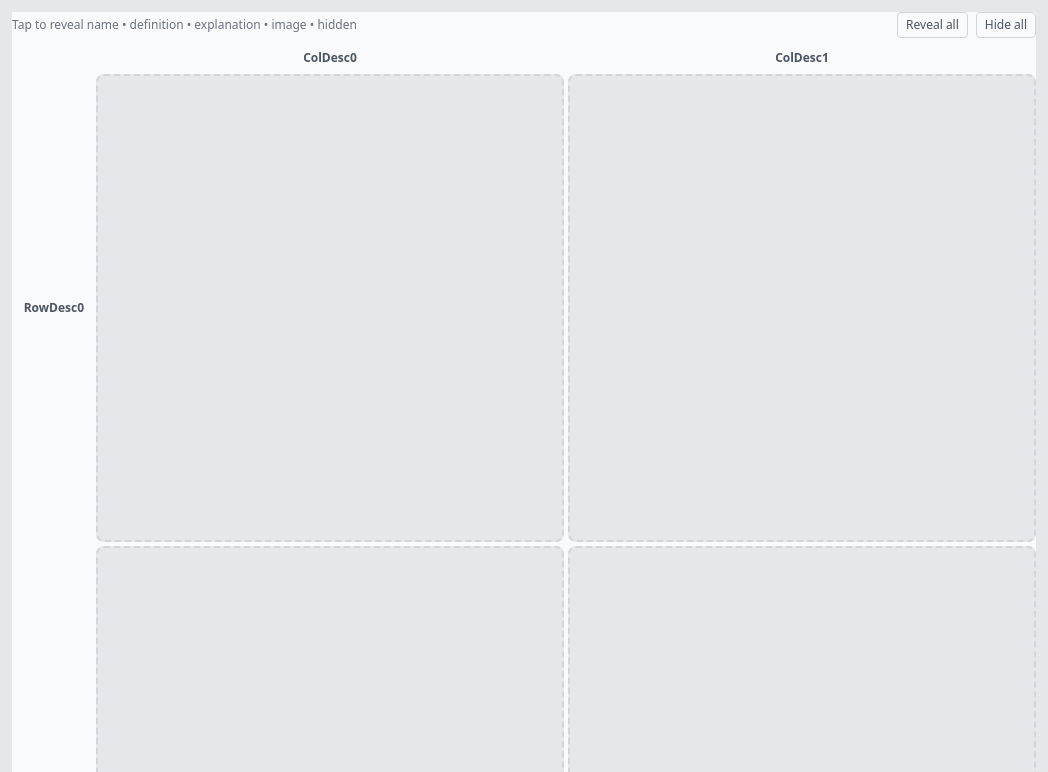
Test: MatrixRevealView — diagonal cell reveal cycle › second tap reveals the definition text (definition stage)
What coordinates should you click on to do the following:
click the 1st button titled "Tap to reveal"
I would click on:
 (330, 308)
Its box is [96,74,564,542].
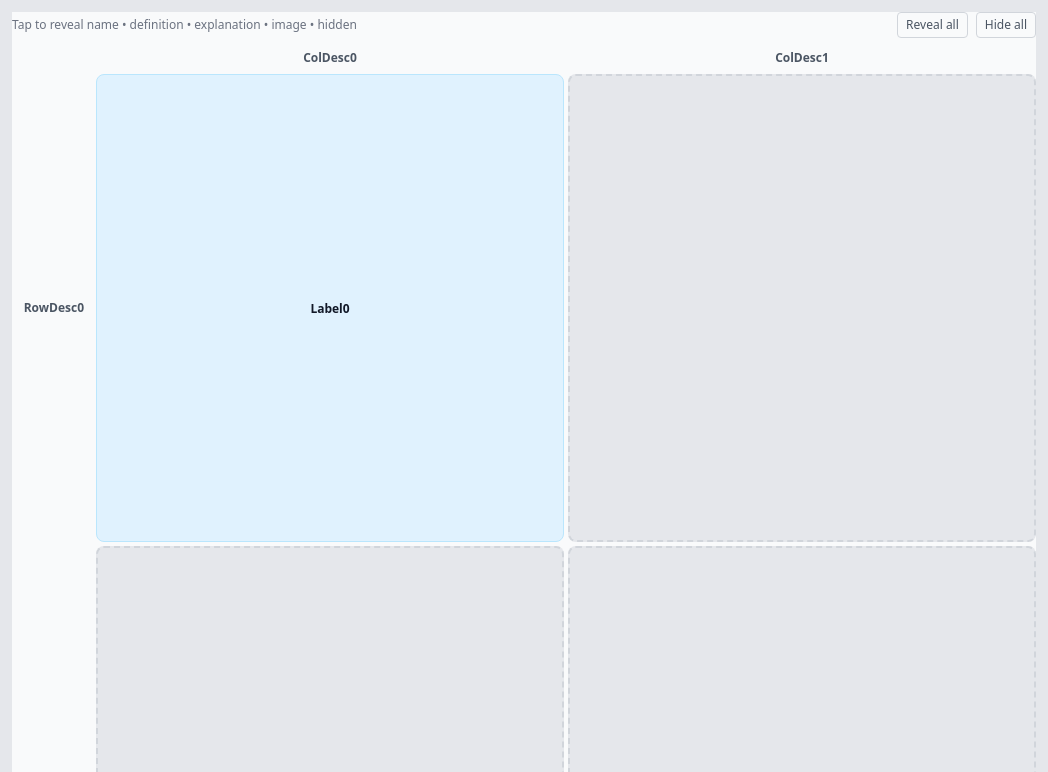
What coordinates should you click on to do the following:
click the button "Label0"
I would click on:
 (124, 308)
Its box is [96,74,564,542].
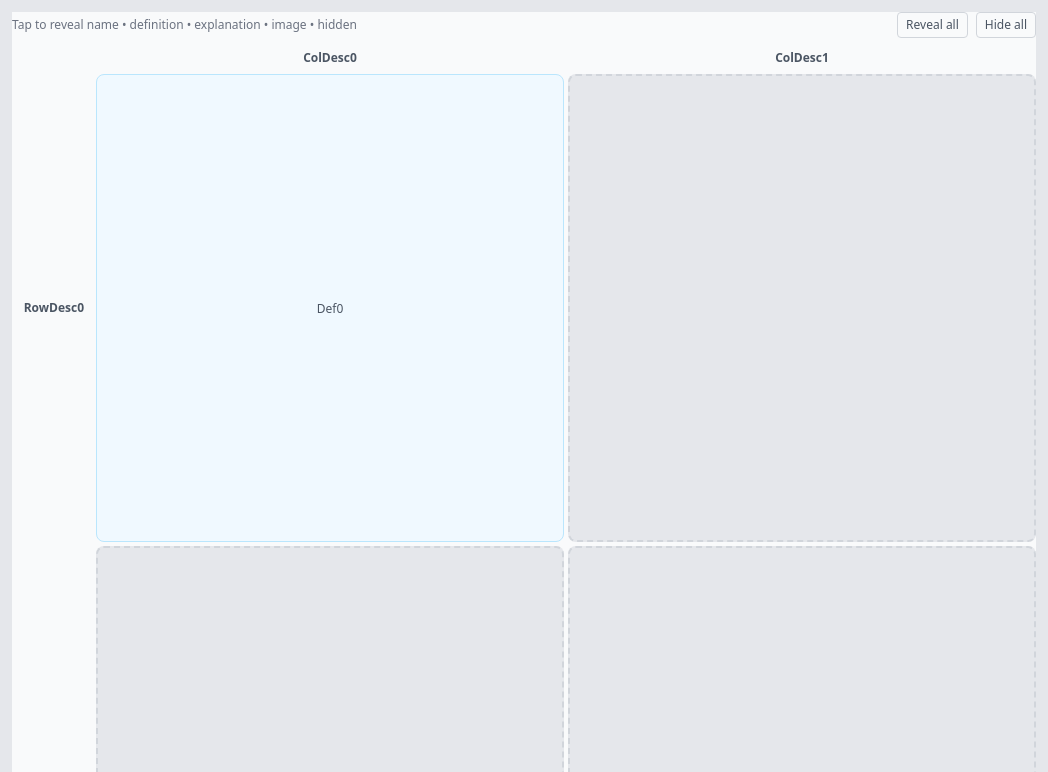
Result: the text "Def0" is shown at [317,300,343,316]
Result: the button "Label0" is gone
